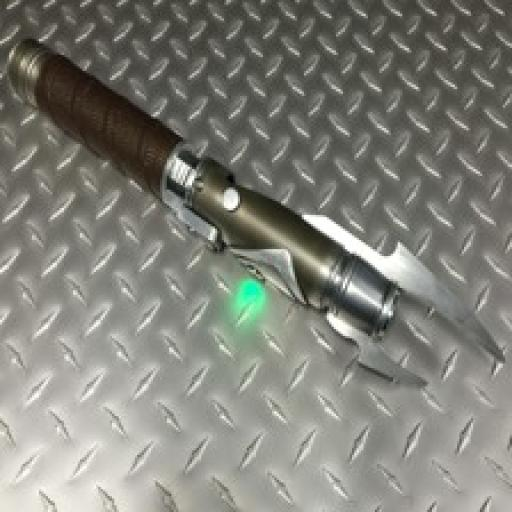lightsaber: (3, 37, 507, 404)
